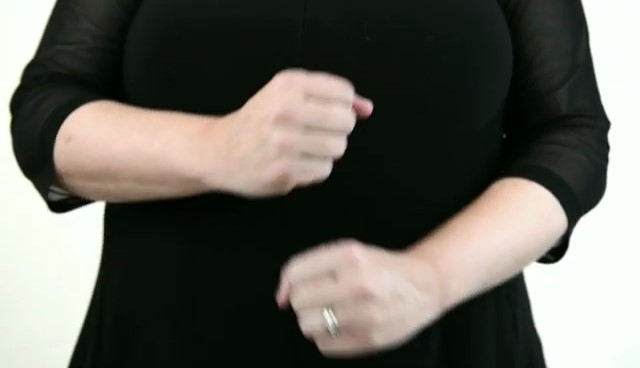G: (230, 61, 436, 363)
